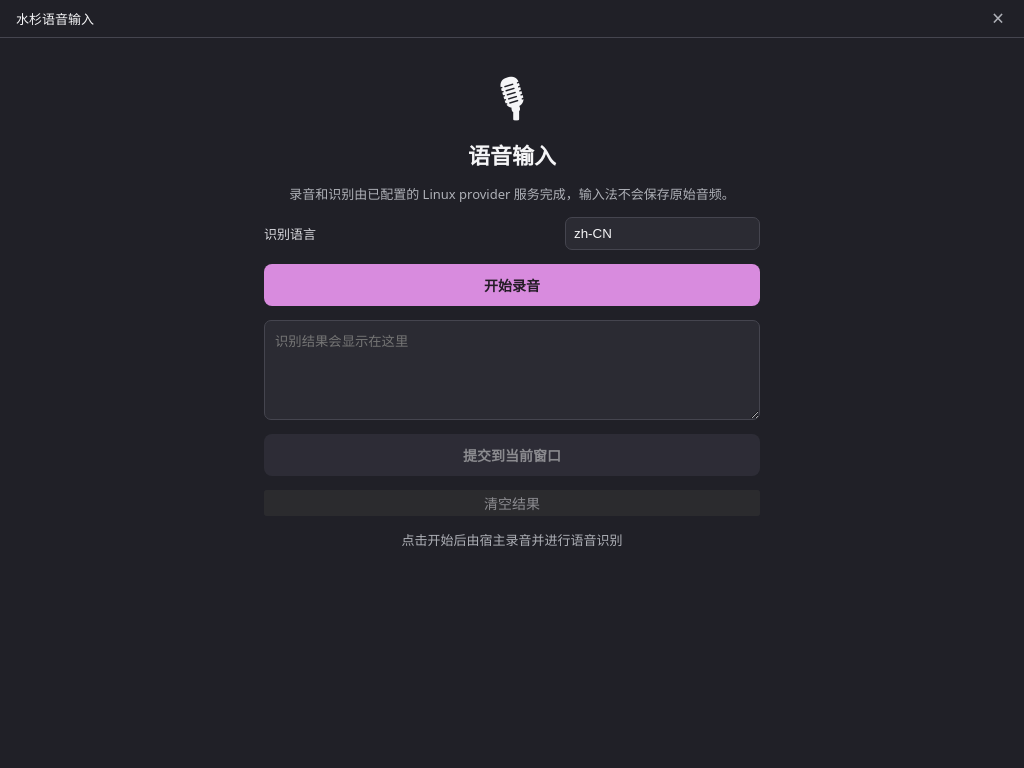
Scenario: voice updates are ignored before recording and after cancellation
Check: the text box labelled "识别结果" is empty, box [264,320,760,420]
Step 1. Click the button "开始录音" → (512, 285), box [264,264,760,306]
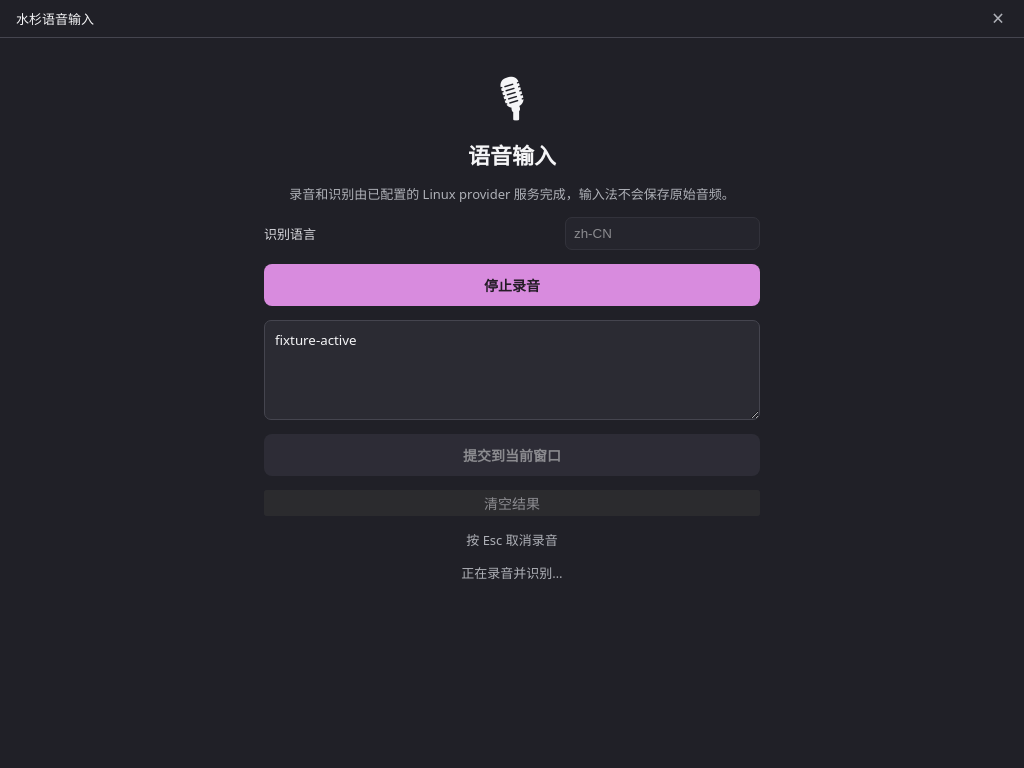
Check: the text box named "识别结果" holds "fixture-active", box [264,320,760,420]
Step 2. Click the button "停止录音" → (512, 285), box [264,264,760,306]
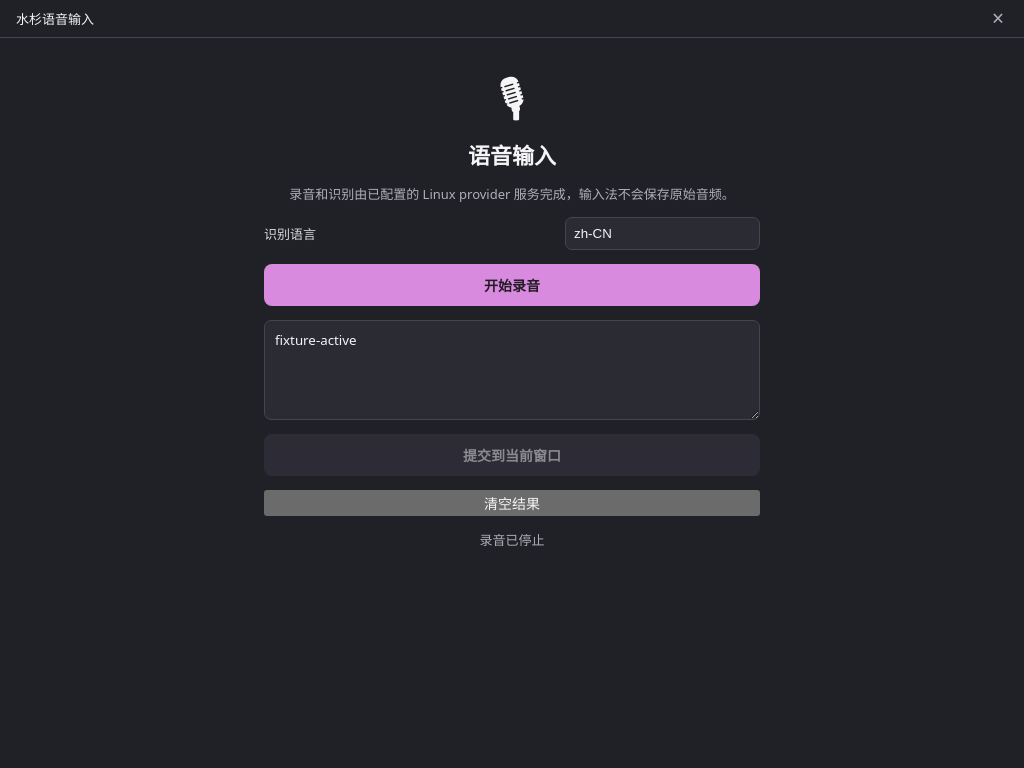
Check: the text box named "识别结果" holds "fixture-active", box [264,320,760,420]
Check: the message reads "录音已停止", box [480,531,544,549]
